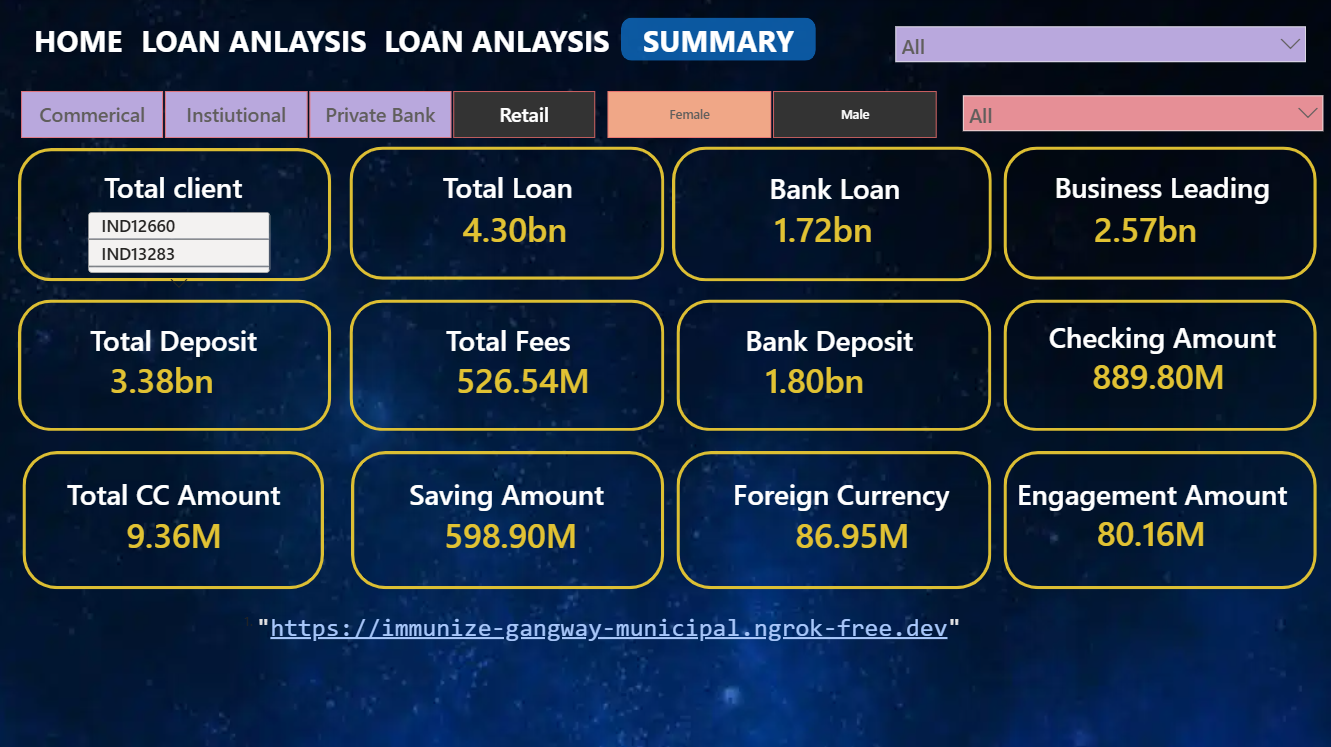

What the dashboard file says about the page in this screenshot:
{"tool":"powerbi","page":{"name":"Summary","canvas":[1280,720],"ordinal":3},"visuals":[{"type":"shape","box":[14.3,0,132,79.5],"z":0},{"type":"shape","box":[114.5,11.1,267.2,57.3],"z":1000},{"type":"shape","box":[598.1,19.1,186.1,41.4],"z":2000},{"type":"shape","box":[346.8,11.1,267.2,57.3],"z":3000},{"type":"slicer","fields":{"Values":["Advanced_Cleaned_Messy2.joined_bank"]},"box":[851,17.5,412,58.9],"z":4000},{"type":"slicer","fields":{"Values":["Advanced_Cleaned_Messy2.brid"]},"box":[0,81.1,598.1,58.9],"z":5000},{"type":"slicer","fields":{"Values":["Advanced_Cleaned_Messy2.genderid"]},"box":[559.9,81.1,364.2,58.9],"z":6000},{"type":"slicer","fields":{"Values":["Advanced_Cleaned_Messy2.iaid"]},"box":[915.8,82.7,364.2,58.9],"z":7000},{"type":"shape","box":[22.3,143.2,299,127.2],"z":8000},{"type":"shape","box":[338.8,287.9,300.6,125.7],"z":9000},{"type":"shape","box":[340.4,432.6,299,132],"z":10000},{"type":"shape","box":[27,432.6,287.9,132],"z":11000},{"type":"shape","box":[22.3,287.9,299,125.7],"z":12000},{"type":"shape","box":[652.2,287.9,300.6,125.7],"z":13000},{"type":"shape","box":[963.9,287.9,299,125.7],"z":14000},{"type":"shape","box":[963.9,141.6,299,127.2],"z":15000},{"type":"shape","box":[647.4,141.6,305.4,128.8],"z":16000},{"type":"shape","box":[338.8,141.6,300.6,127.2],"z":17000},{"type":"shape","box":[652.2,432.6,300.6,132],"z":18000},{"type":"shape","box":[963.9,432.6,299,132],"z":19000},{"type":"shape","box":[84.3,152.7,173.4,52.5],"z":20000},{"type":"shape","box":[404,152.7,173.4,52.5],"z":21000},{"type":"shape","box":[715.8,154.3,173.4,52.5],"z":22000},{"type":"shape","box":[987.8,152.7,254.5,52.5],"z":23000},{"type":"shape","box":[44.5,299,254.5,52.5],"z":24000},{"type":"shape","box":[364.2,299,254.5,52.5],"z":25000},{"type":"shape","box":[669.6,299,254.5,52.5],"z":26000},{"type":"shape","box":[987.8,295.9,254.5,52.5],"z":27000},{"type":"shape","box":[44.5,447,254.5,52.5],"z":28000},{"type":"shape","box":[362.7,447,254.5,52.5],"z":29000},{"type":"shape","box":[682.4,447,254.5,52.5],"z":30000},{"type":"shape","box":[930.5,447,349.9,52.5],"z":31000},{"type":"cardVisual","fields":{"Rows":["Advanced_Cleaned_Messy2.client_id"]},"box":[84.3,179.7,184.5,108.2],"z":32000},{"type":"cardVisual","fields":{"Data":["Advanced_Cleaned_Messy2.Total Loan"]},"box":[418.3,181.3,159.1,73.2],"z":33000},{"type":"cardVisual","fields":{"Data":["Sum(Advanced_Cleaned_Messy2.bank_loans)"]},"box":[715.8,181.3,186.1,73.2],"z":34000},{"type":"cardVisual","fields":{"Data":["Sum(Advanced_Cleaned_Messy2.business_lending)"]},"box":[1021.2,181.3,186.1,73.2],"z":35000},{"type":"cardVisual","fields":{"Data":["Advanced_Cleaned_Messy2.Total Deposit"]},"box":[81.1,326.1,186.1,73.2],"z":36000},{"type":"cardVisual","fields":{"Data":["Sum(Advanced_Cleaned_Messy2.estimated_income)"]},"box":[412,326.1,186.1,73.2],"z":37000},{"type":"cardVisual","fields":{"Data":["Sum(Advanced_Cleaned_Messy2.bank_deposits)"]},"box":[707.8,326.1,186.1,73.2],"z":38000},{"type":"cardVisual","fields":{"Data":["Sum(Advanced_Cleaned_Messy2.checking_accounts)"]},"box":[1019.6,322.9,186.1,73.2],"z":39000},{"type":"cardVisual","fields":{"Data":["Sum(Advanced_Cleaned_Messy2.credit_card_balance)"]},"box":[97,474,170.2,73.2],"z":40000},{"type":"cardVisual","fields":{"Data":["Sum(Advanced_Cleaned_Messy2.saving_accounts)"]},"box":[400.8,474,197.2,73.2],"z":41000},{"type":"cardVisual","fields":{"Data":["Sum(Advanced_Cleaned_Messy2.foreign_currency_account)"]},"box":[736.5,474,179.7,73.2],"z":42000},{"type":"cardVisual","fields":{"Data":["Sum(Advanced_Cleaned_Messy2.superannuation_savings)"]},"box":[1023.6,473.3,184,73.6],"z":43000},{"type":"textbox","box":[227.5,582.2,725.3,71.6],"z":44000}]}

Visuals, with their boxes in screenshot pixels (x1, y1, x2, y2), scaled from the page's 1280x720 canvas onto the 1331x747 screenshot:
shape: [left=15, top=0, right=152, bottom=82]
shape: [left=119, top=12, right=397, bottom=71]
shape: [left=622, top=20, right=815, bottom=63]
shape: [left=361, top=12, right=638, bottom=71]
slicer - Advanced_Cleaned_Messy2.joined_bank: [left=885, top=18, right=1313, bottom=79]
slicer - Advanced_Cleaned_Messy2.brid: [left=0, top=84, right=622, bottom=145]
slicer - Advanced_Cleaned_Messy2.genderid: [left=582, top=84, right=961, bottom=145]
slicer - Advanced_Cleaned_Messy2.iaid: [left=952, top=86, right=1330, bottom=147]
shape: [left=23, top=149, right=334, bottom=281]
shape: [left=352, top=299, right=665, bottom=429]
shape: [left=354, top=449, right=665, bottom=586]
shape: [left=28, top=449, right=327, bottom=586]
shape: [left=23, top=299, right=334, bottom=429]
shape: [left=678, top=299, right=991, bottom=429]
shape: [left=1002, top=299, right=1313, bottom=429]
shape: [left=1002, top=147, right=1313, bottom=279]
shape: [left=673, top=147, right=991, bottom=281]
shape: [left=352, top=147, right=665, bottom=279]
shape: [left=678, top=449, right=991, bottom=586]
shape: [left=1002, top=449, right=1313, bottom=586]
shape: [left=88, top=158, right=268, bottom=213]
shape: [left=420, top=158, right=600, bottom=213]
shape: [left=744, top=160, right=925, bottom=215]
shape: [left=1027, top=158, right=1292, bottom=213]
shape: [left=46, top=310, right=311, bottom=365]
shape: [left=379, top=310, right=643, bottom=365]
shape: [left=696, top=310, right=961, bottom=365]
shape: [left=1027, top=307, right=1292, bottom=361]
shape: [left=46, top=464, right=311, bottom=518]
shape: [left=377, top=464, right=642, bottom=518]
shape: [left=710, top=464, right=974, bottom=518]
shape: [left=968, top=464, right=1330, bottom=518]
cardVisual - Advanced_Cleaned_Messy2.client_id: [left=88, top=186, right=280, bottom=299]
cardVisual - Advanced_Cleaned_Messy2.Total Loan: [left=435, top=188, right=600, bottom=264]
cardVisual - Sum(Advanced_Cleaned_Messy2.bank_loans): [left=744, top=188, right=938, bottom=264]
cardVisual - Sum(Advanced_Cleaned_Messy2.business_lending): [left=1062, top=188, right=1255, bottom=264]
cardVisual - Advanced_Cleaned_Messy2.Total Deposit: [left=84, top=338, right=278, bottom=414]
cardVisual - Sum(Advanced_Cleaned_Messy2.estimated_income): [left=428, top=338, right=622, bottom=414]
cardVisual - Sum(Advanced_Cleaned_Messy2.bank_deposits): [left=736, top=338, right=930, bottom=414]
cardVisual - Sum(Advanced_Cleaned_Messy2.checking_accounts): [left=1060, top=335, right=1254, bottom=411]
cardVisual - Sum(Advanced_Cleaned_Messy2.credit_card_balance): [left=101, top=492, right=278, bottom=568]
cardVisual - Sum(Advanced_Cleaned_Messy2.saving_accounts): [left=417, top=492, right=622, bottom=568]
cardVisual - Sum(Advanced_Cleaned_Messy2.foreign_currency_account): [left=766, top=492, right=953, bottom=568]
cardVisual - Sum(Advanced_Cleaned_Messy2.superannuation_savings): [left=1064, top=491, right=1256, bottom=567]
textbox: [left=237, top=604, right=991, bottom=678]
